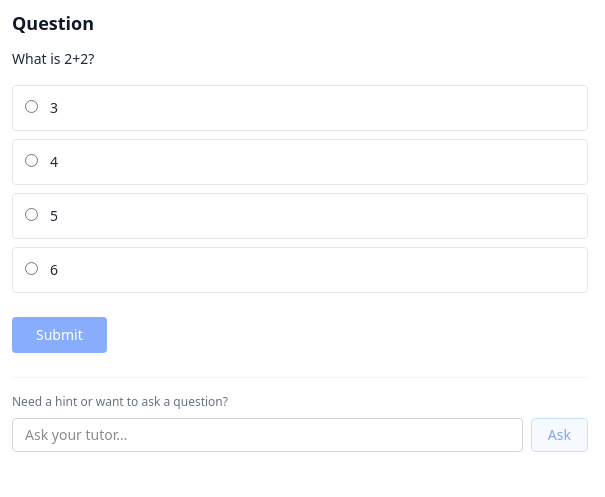
it: useMcqWidget › shows the hint loading state after Ask while the agent runs
Type "help me" into the field with placeholder "Ask your tutor…". click: (267, 435)
box: [12,418,523,452]
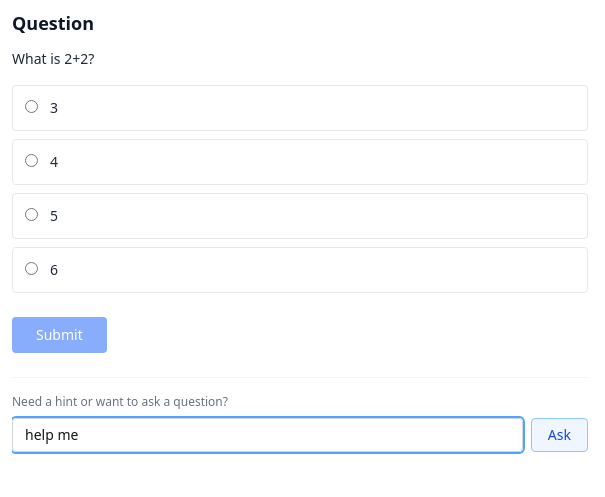
Click the button "Ask". click: (559, 435)
box: [531,418,588,452]
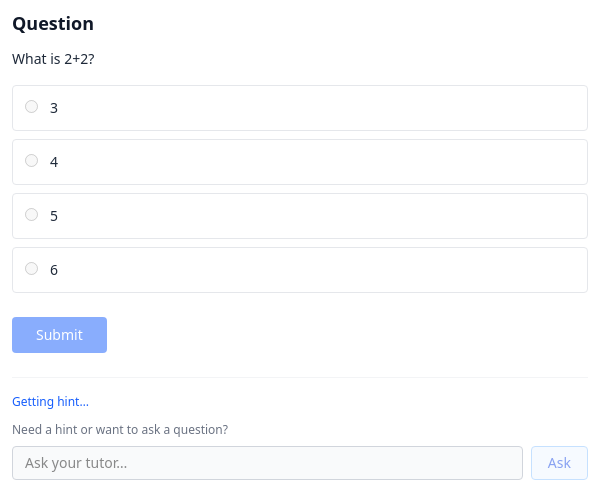
Expected: the text "What is 2+2?" is shown, [12,49,94,68]
Now the text "Getting hint…" is shown, box [12,393,89,410]
